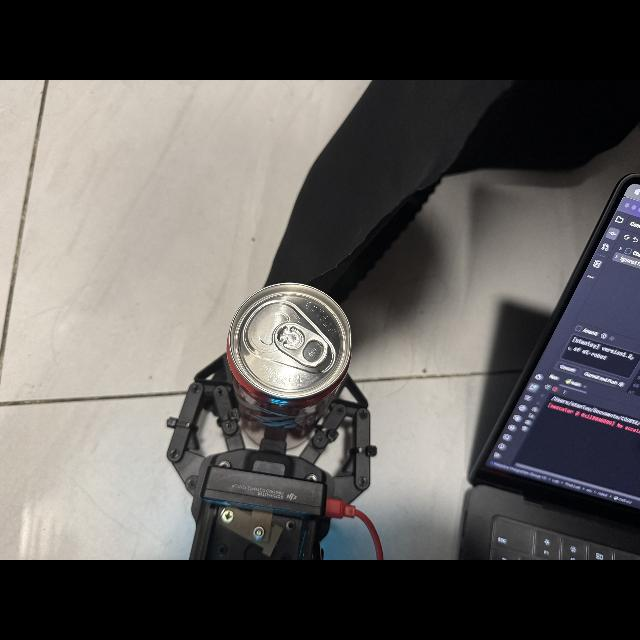Cola: (218, 278, 366, 424)
